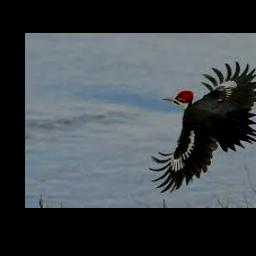Woodpecker: (148, 60, 256, 192)
